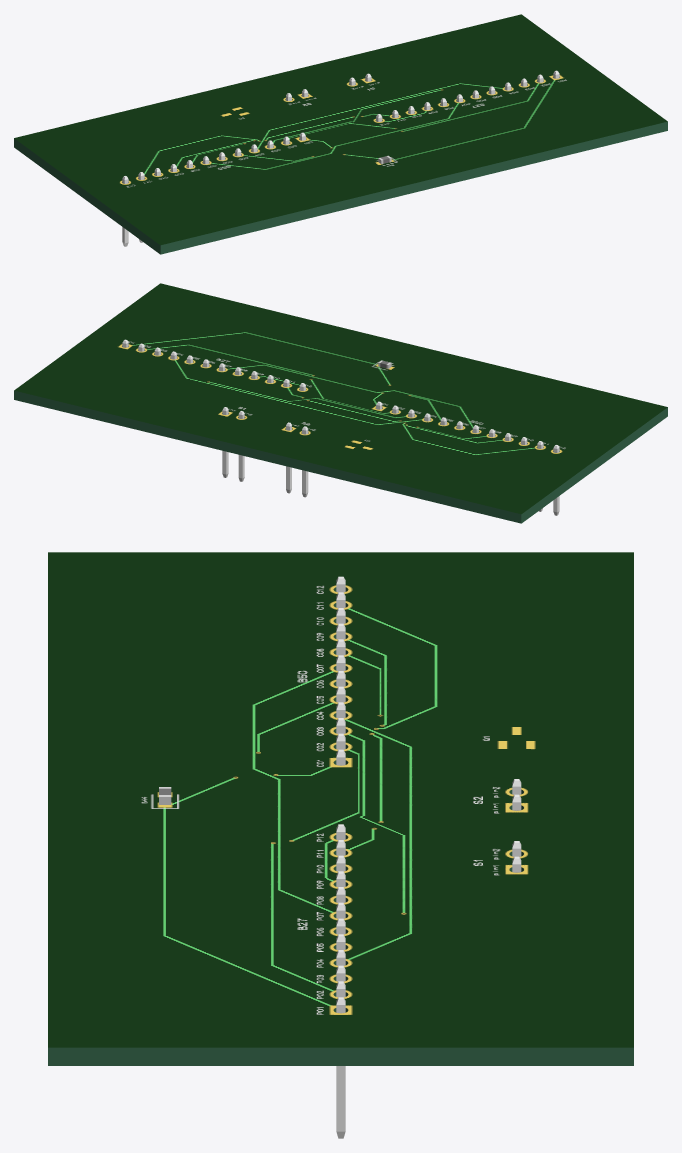
Rendered from coupon.glb.
3 renders of one model, top to bottom at view 1: azimuth 30°, elevation 25°; view 2: azimuth 150°, elevation 25°; view 3: azimuth 270°, elevation 25°, orthographic. The views are drawn at different scales.
Visible parts, largest first — view 1: Box0, B50, B27; view 2: Box0, B50, B27, S1, S2; view 3: Box0, B27, B50.
Boxes of the visible parts, x1,y1,x2,y2 form: Box0: [14, 14, 667, 254]; B50: [122, 132, 305, 246]; B27: [376, 70, 559, 121]; Box0: [14, 283, 667, 523]; B50: [376, 401, 559, 515]; B27: [122, 339, 305, 390]; S1: [222, 407, 244, 481]; S2: [286, 422, 308, 497]; Box0: [48, 552, 633, 1065]; B27: [336, 824, 345, 1138]; B50: [336, 576, 345, 765].
Bounding box in the file's own units: 80 × 10.5 × 40.
7 materials, 2 textured.
